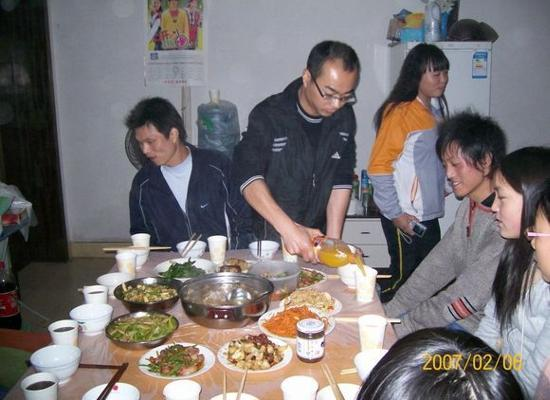person: (234, 42, 362, 266)
